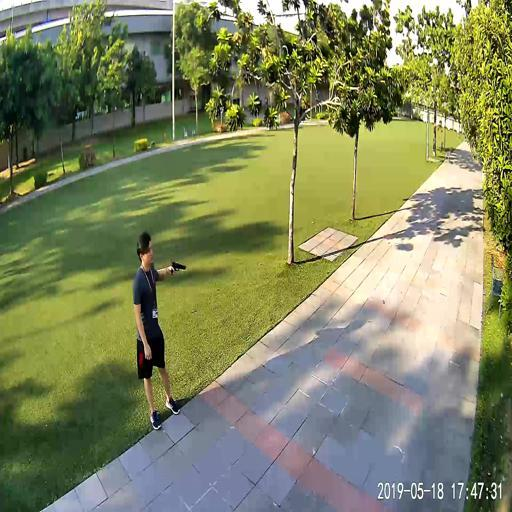Handgun: (168, 256, 185, 277)
